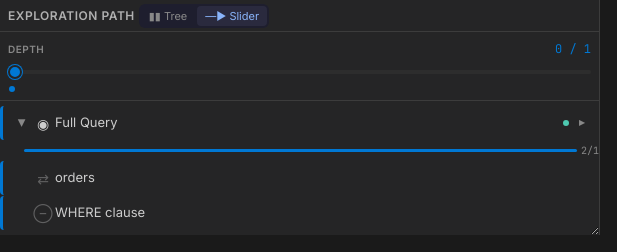
it: DecompositionSlider › chevron collapses/re-expands applied children and flips its aria-label
Click the button named "Collapse" at (23, 123), box [15,115,31,131]
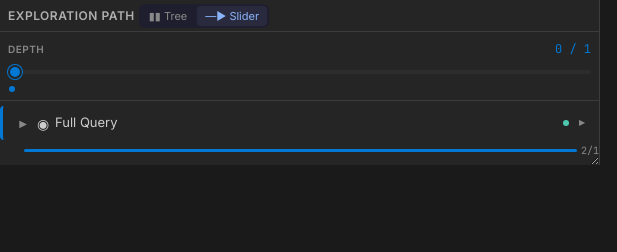
Check: the text "orders" is gone
Click the button named "Expand" at (23, 123), box [15,115,31,131]
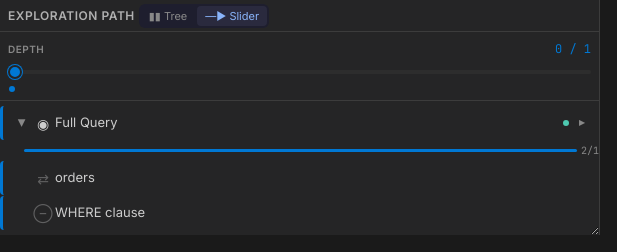
Check: the text "orders" is shown, box [55,169,95,185]
